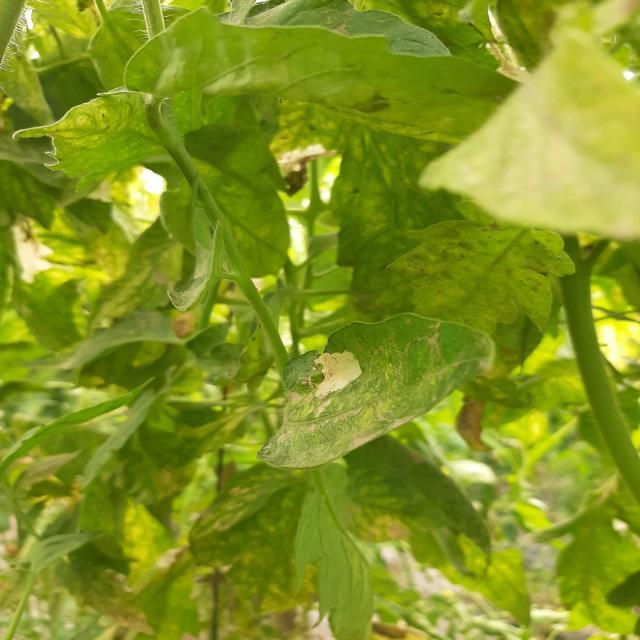Tuta absoluta: (298, 340, 366, 403)
